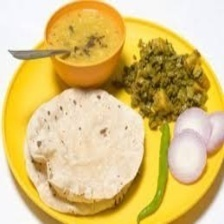sabzi: (122, 25, 210, 124)
